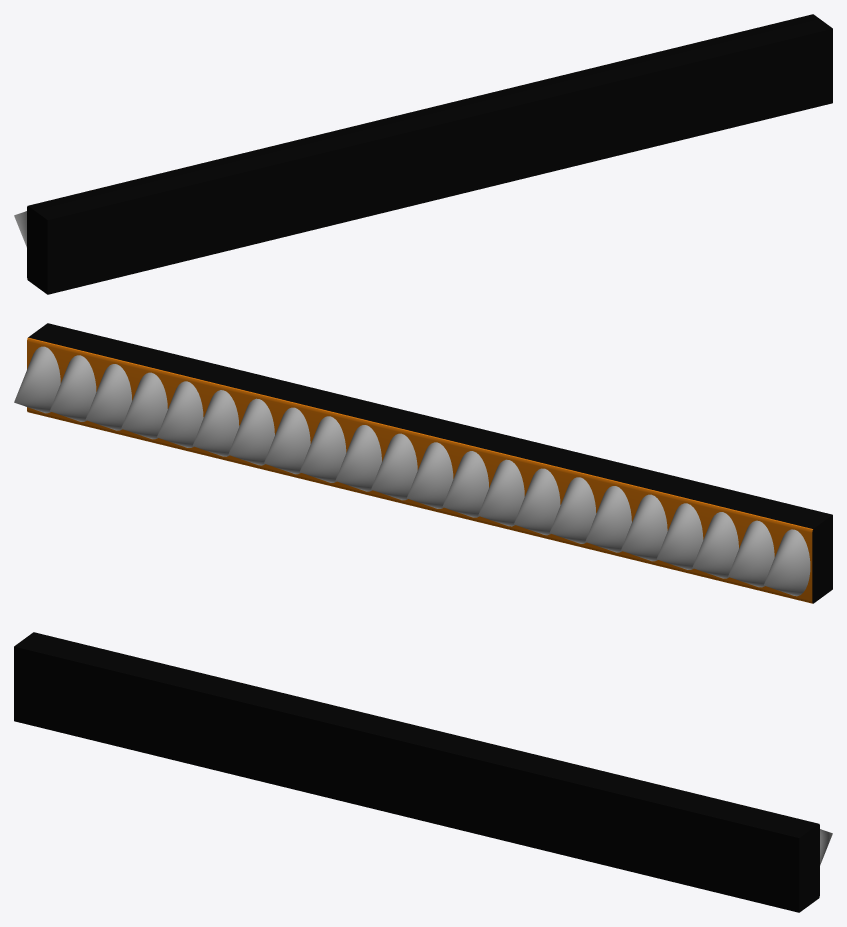
Rendered from Boundarie.fbx.
3 renders of one model, top to bottom at view 1: azimuth 30°, elevation 25°; view 2: azimuth 150°, elevation 25°; view 3: azimuth 330°, elevation 25°, orthographic.
Parts seen in each view (by area): view 1: Boundarie; view 2: Boundarie; view 3: Boundarie.
Boxes of the visible parts, x1,y1,x2,y2 form: Boundarie: [14, 14, 832, 294]; Boundarie: [14, 323, 832, 603]; Boundarie: [14, 632, 832, 912].
Bounding box in the file's own units: 11 × 1 × 1.25.
